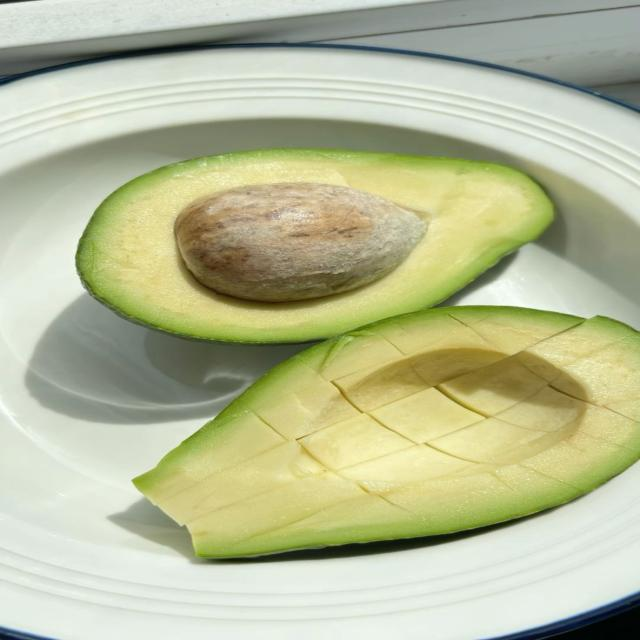avocado: (134, 307, 639, 557), (173, 183, 427, 302)
